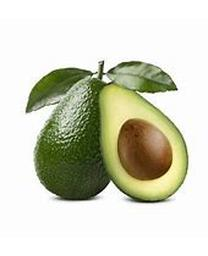avocado: (97, 83, 190, 202), (33, 76, 119, 201)
